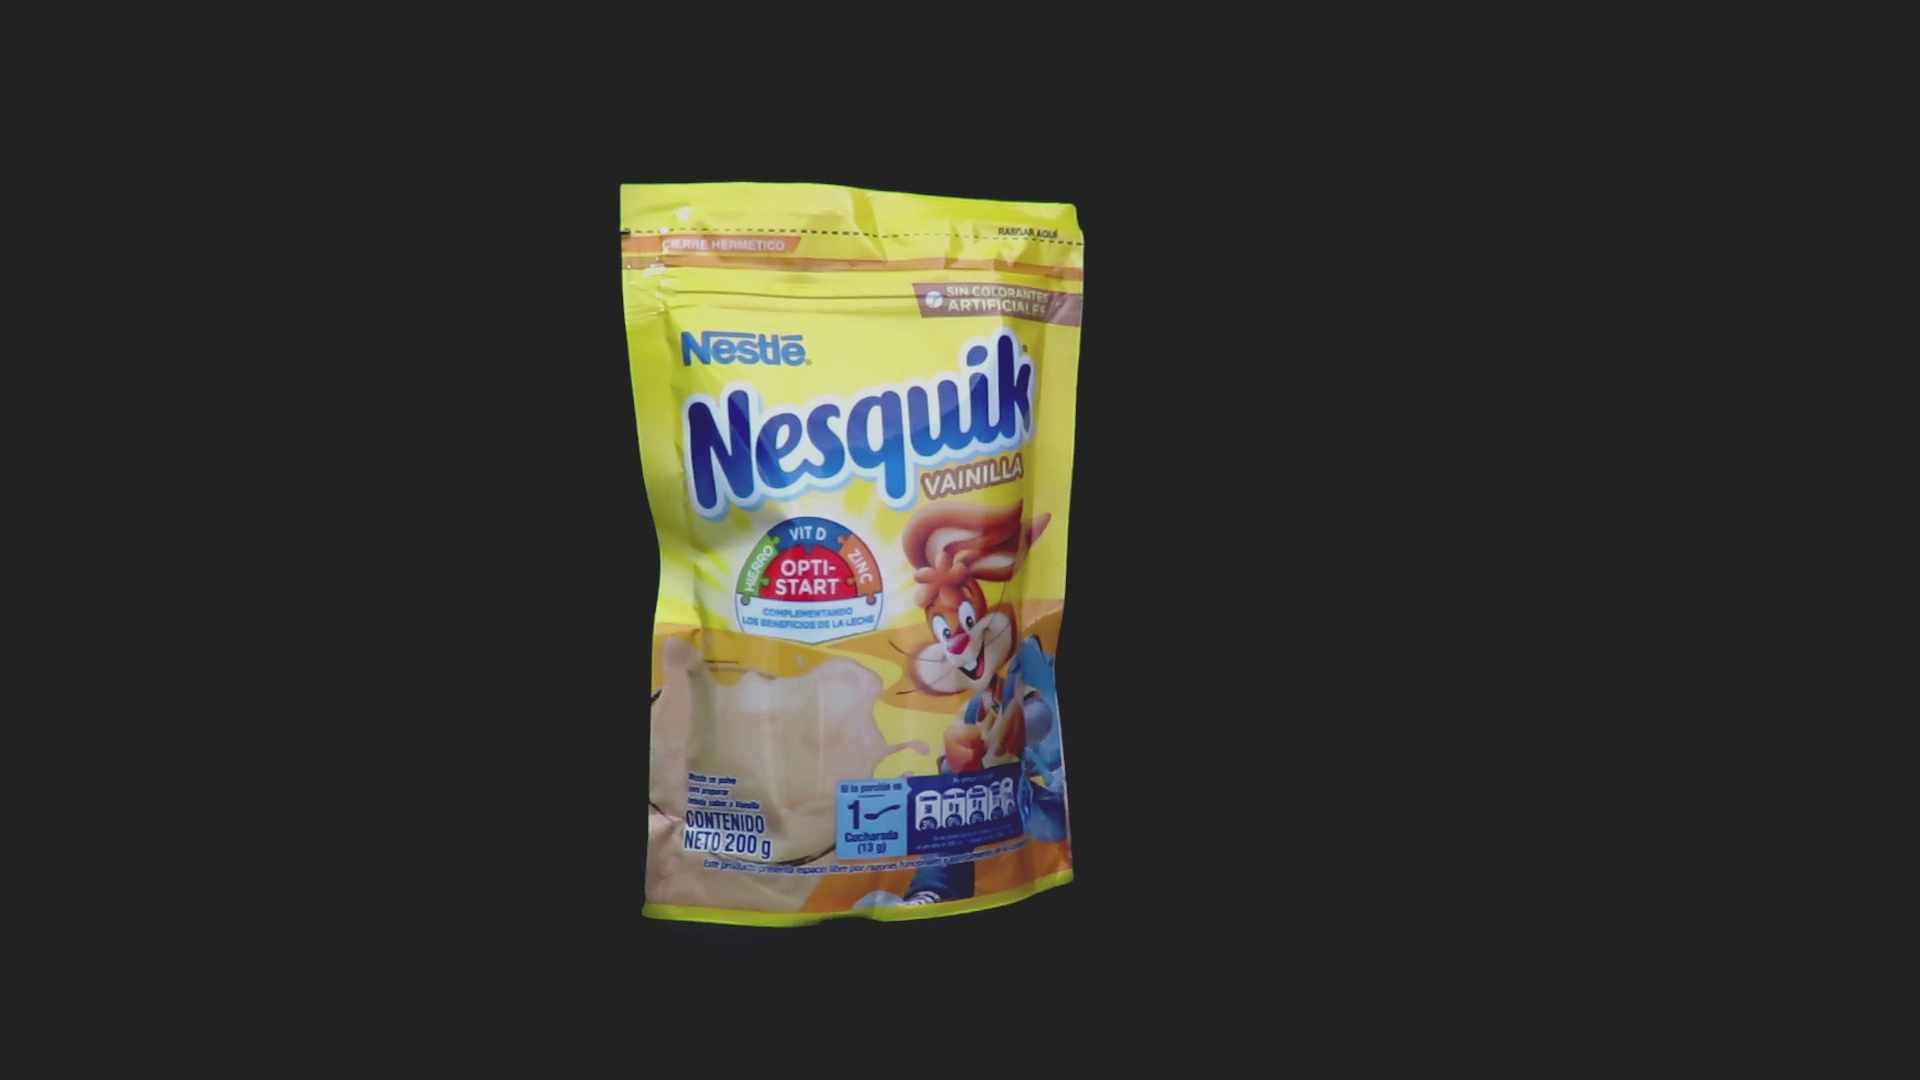COL0170306DYP20000: (615, 175, 1091, 934)
